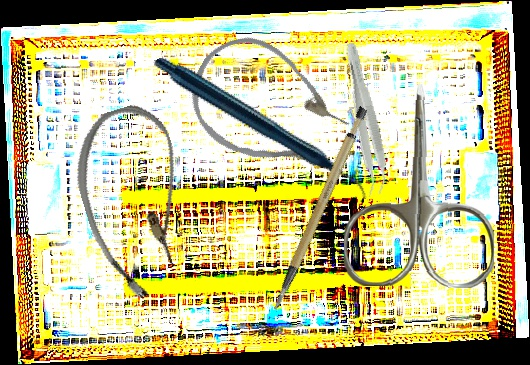Cannula: (171, 19, 365, 196), (59, 97, 213, 306)
Handpiece: (152, 5, 368, 254)
Iris Scissors: (343, 82, 497, 289)
Scalpel Handle: (241, 104, 394, 311)
Tissue Forceps: (335, 40, 393, 198)
